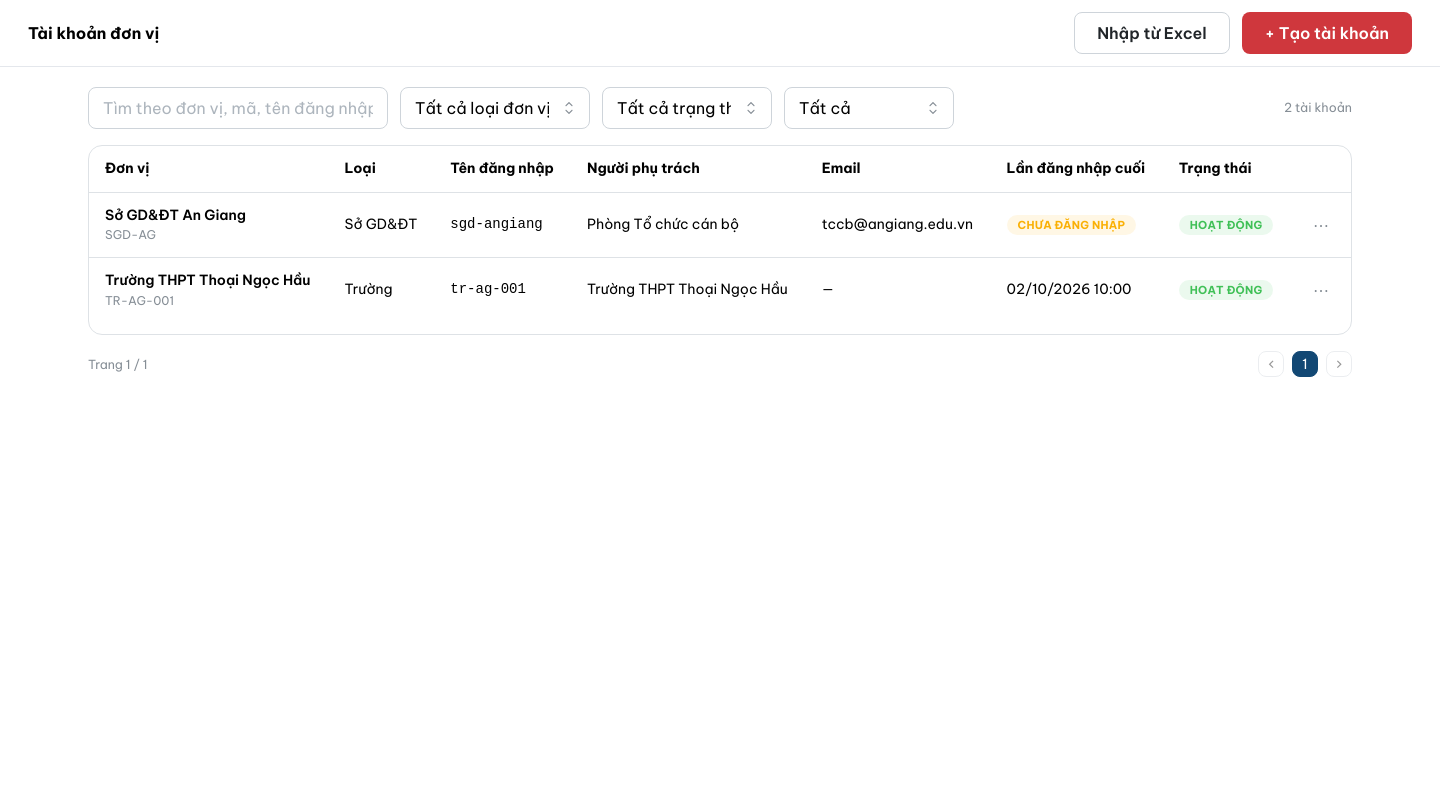
Test: Admin — Người dùng (tài khoản đơn vị) › tạo tài khoản: lỗi 409 ten_dang_nhap hiện dưới ô
Click the button "+ Tạo tài khoản".
click(1327, 33)  # box [1242,12,1412,54]
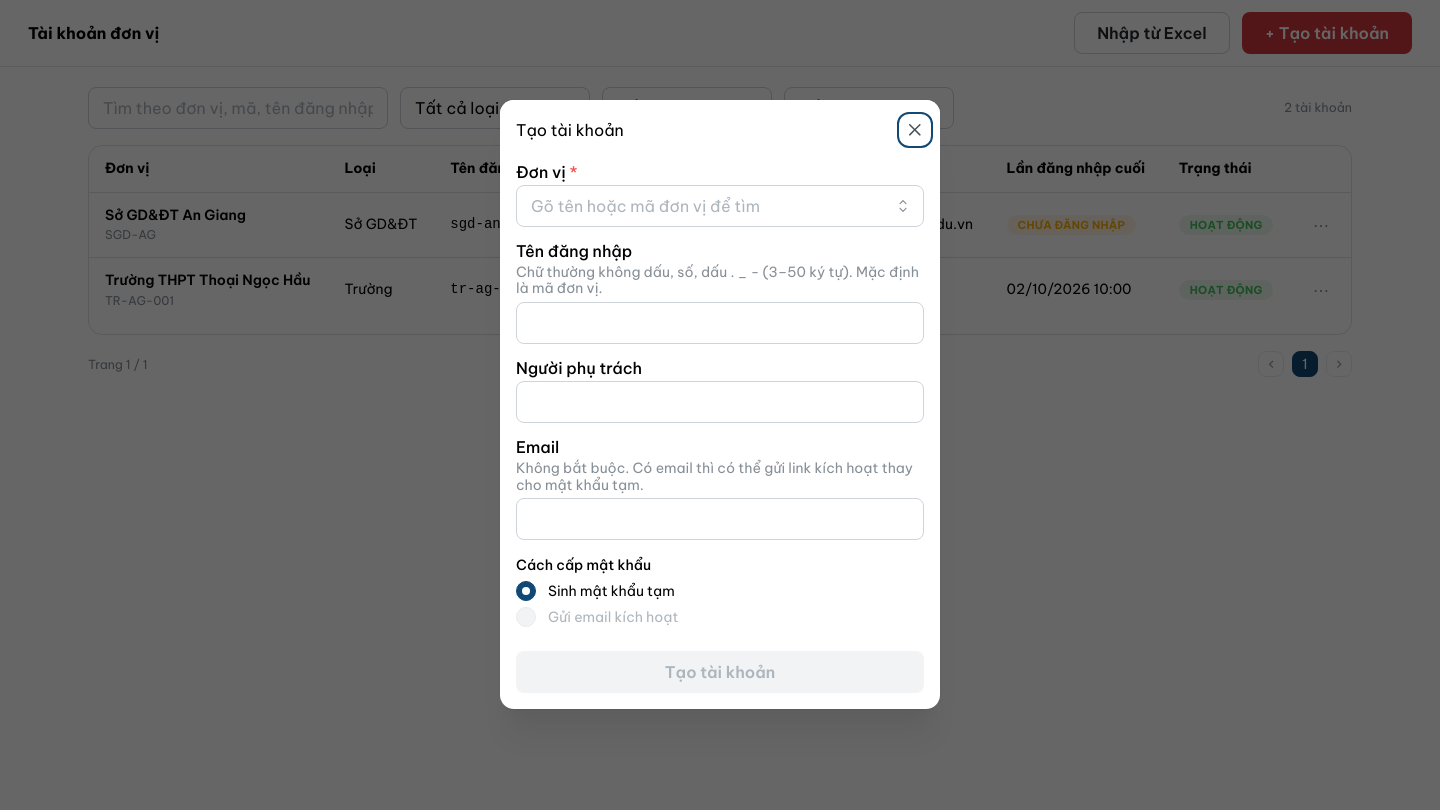
Click the field labelled "Đơn vị *".
click(720, 206)  # box [516,185,924,227]
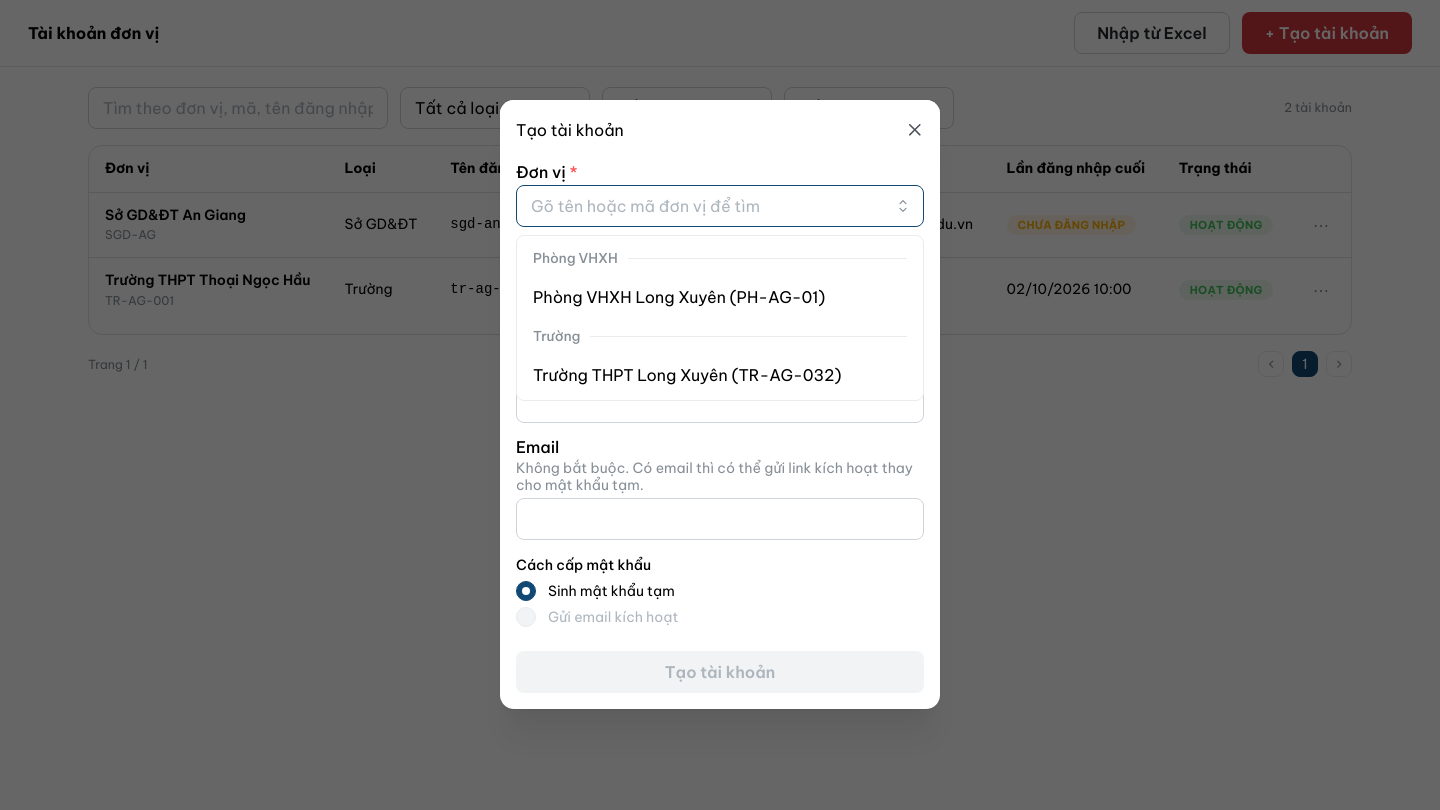
Click the option "Trường THPT Long Xuyên (TR-AG-032)".
click(687, 375)  # box [533,365,842,385]
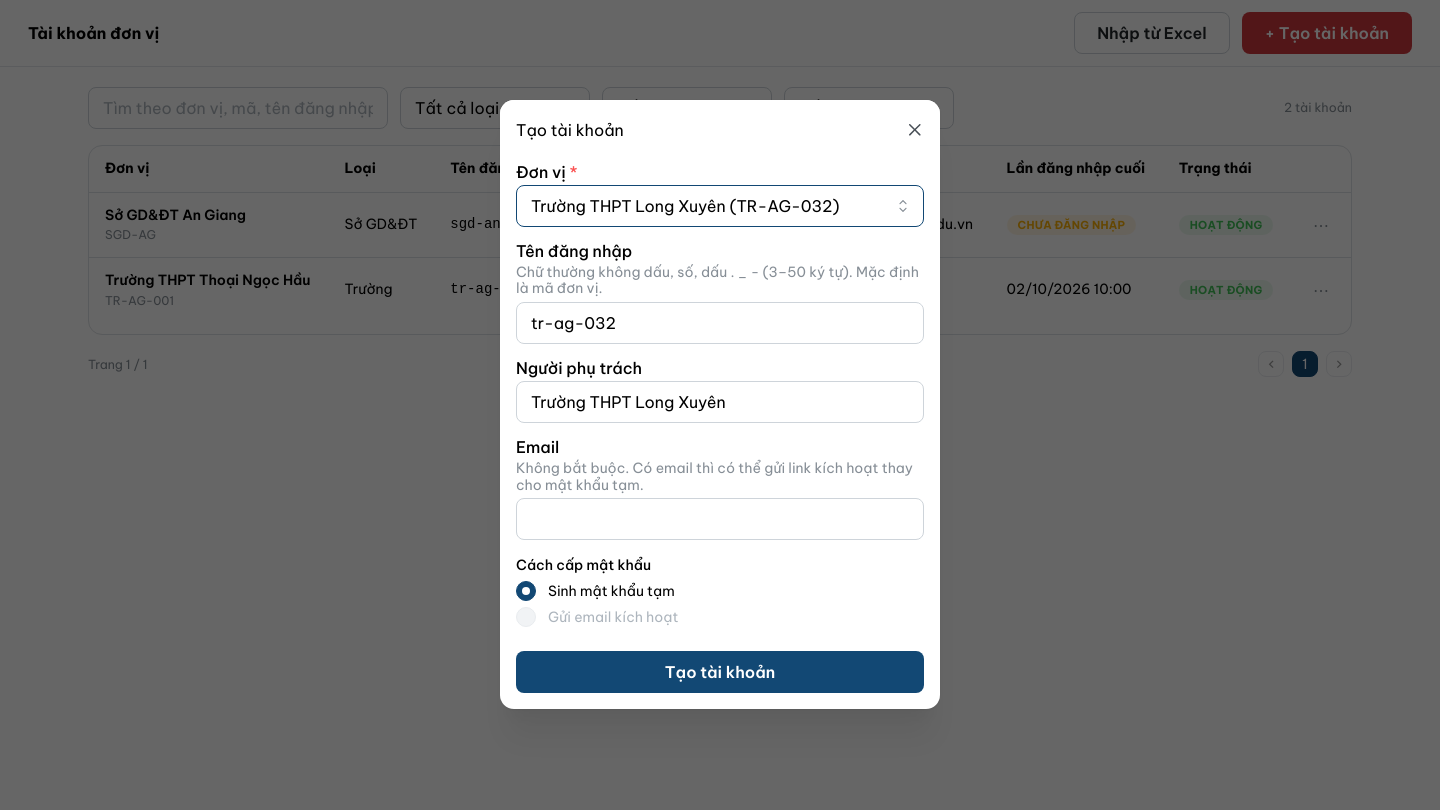
Click the button "Tạo tài khoản".
click(720, 673)  # box [516,652,924,694]
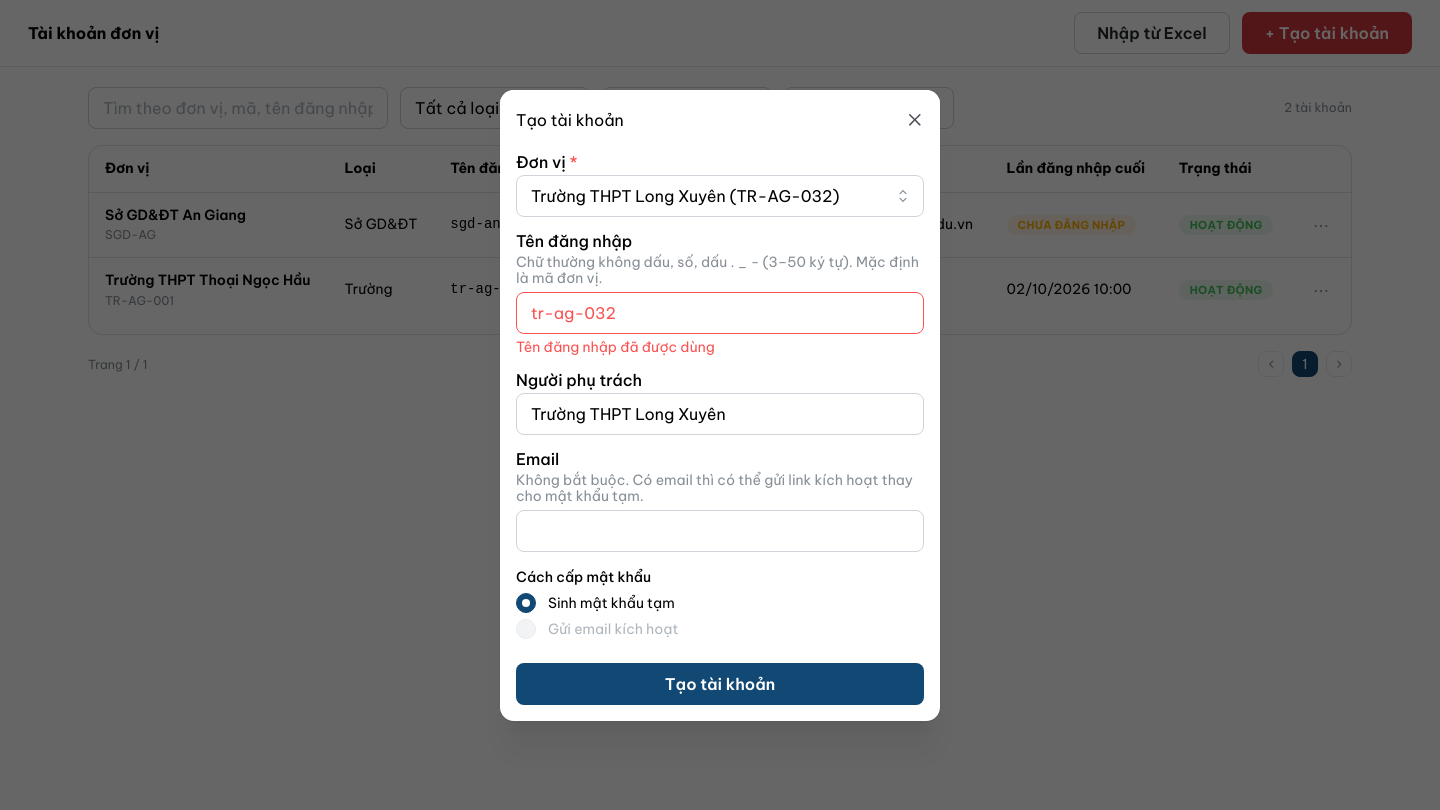
Now the text "Tên đăng nhập đã được dùng" is shown, box [516,338,715,356]
